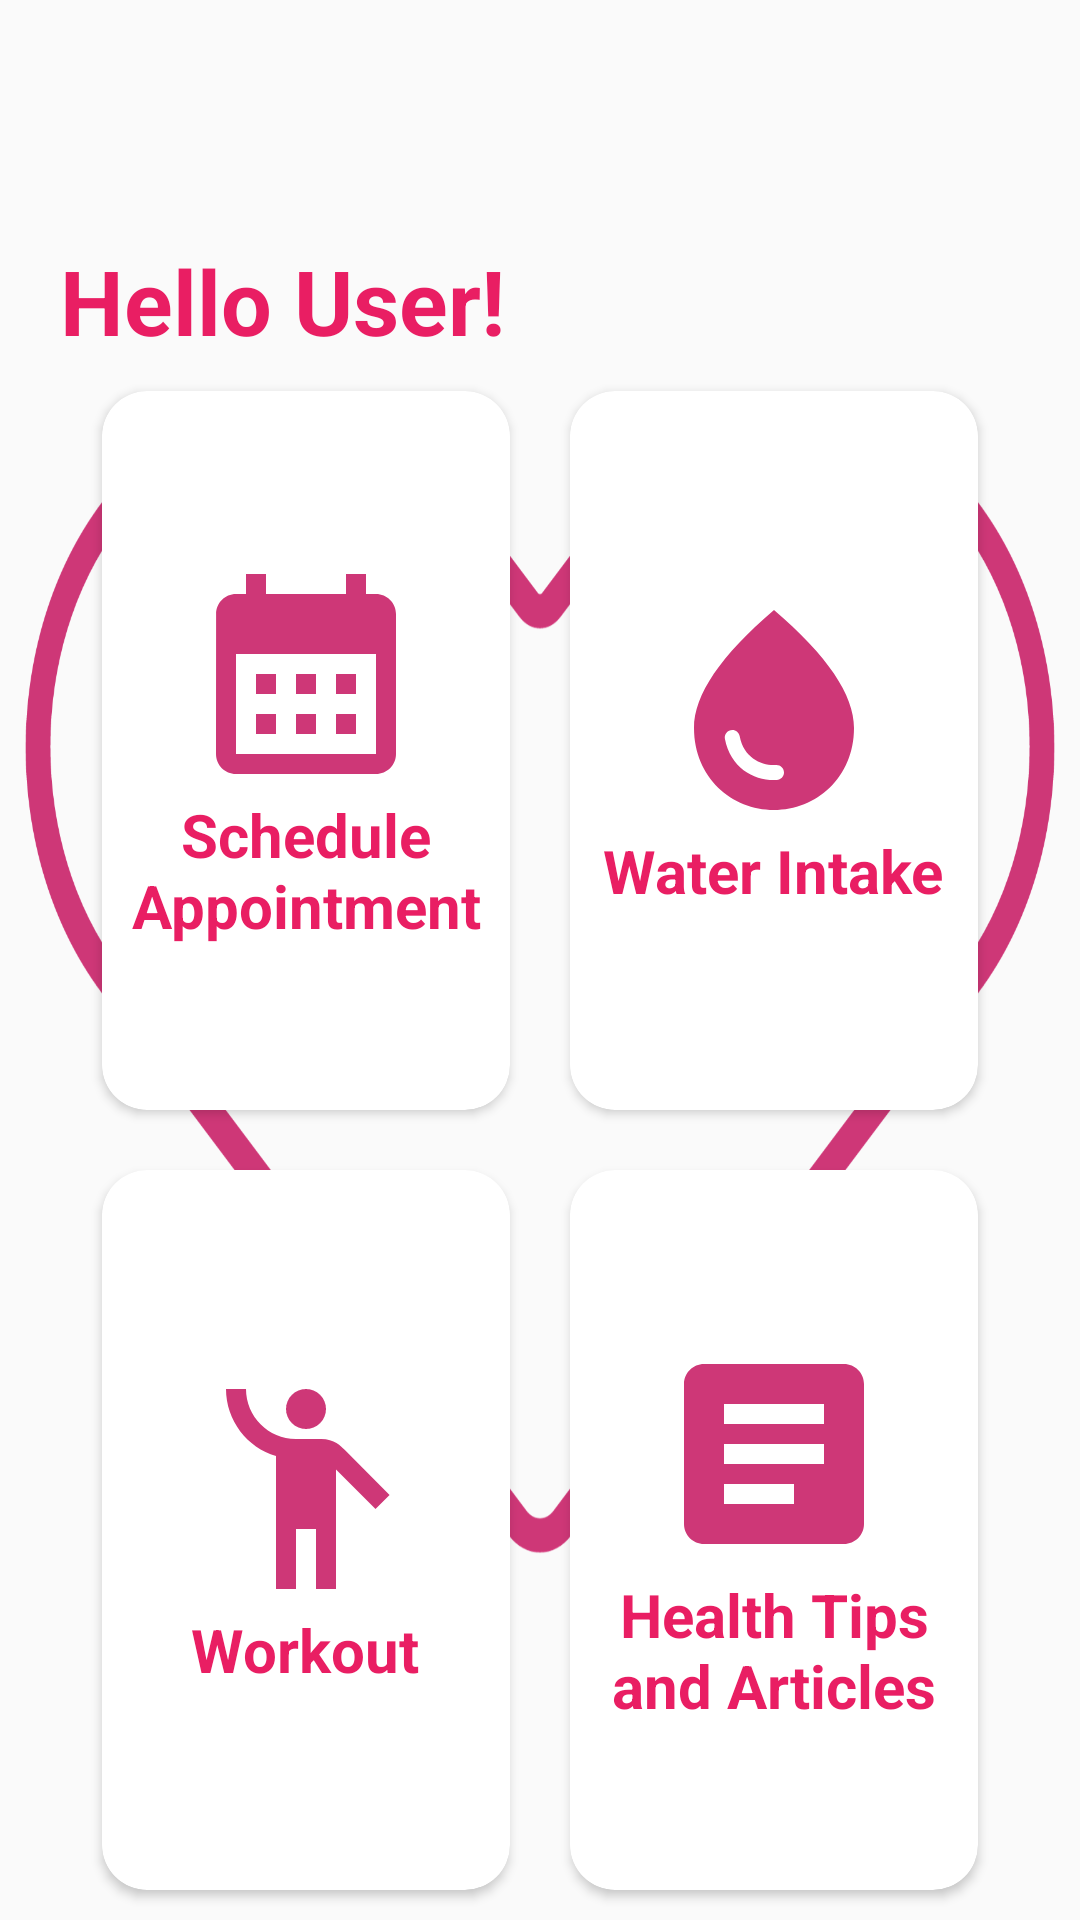

Named icons in this screenshot (1080*1920) and their centers, point (x, y):
calendar month: point (306, 674)
emoji people: point (308, 1489)
water drop: point (774, 710)
